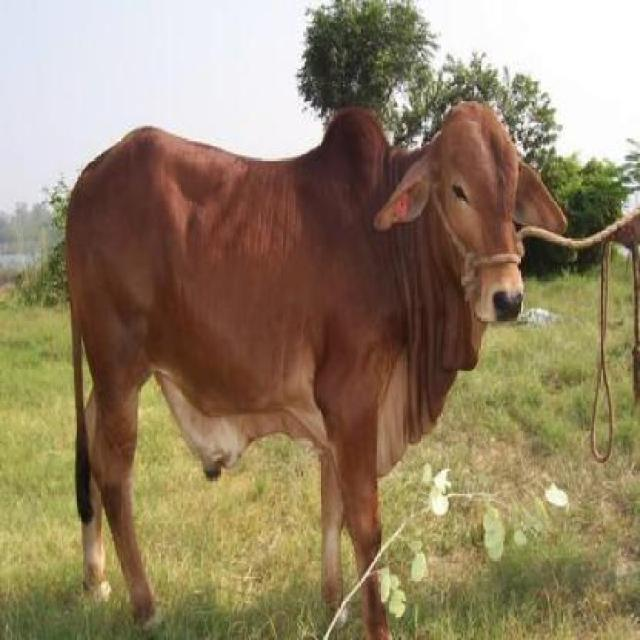Cow: (65, 103, 568, 639)
